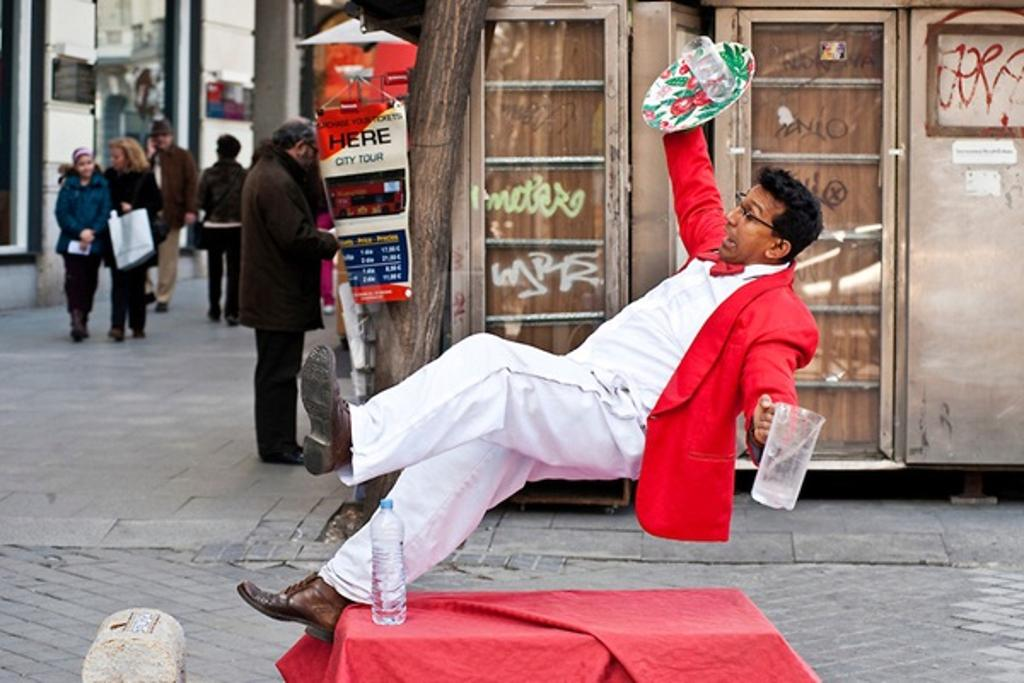face: (725, 181, 765, 262), (300, 136, 318, 172), (149, 133, 169, 149), (111, 149, 125, 170), (77, 159, 92, 177)
